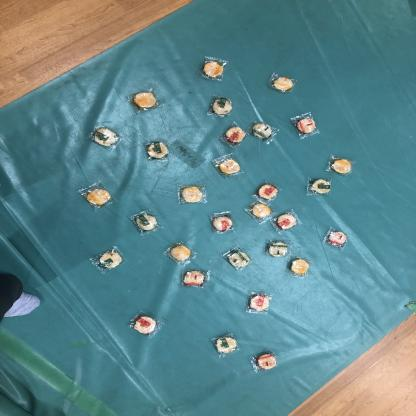green_setoshio: (89, 244, 129, 275), (88, 124, 125, 151), (126, 209, 164, 235), (221, 246, 256, 272), (211, 331, 242, 358), (249, 121, 283, 145), (304, 177, 338, 200), (206, 95, 237, 120), (142, 140, 170, 164), (264, 238, 293, 260)
red_setoshio: (124, 310, 166, 340), (290, 112, 322, 140), (249, 178, 282, 204), (246, 291, 277, 316), (178, 270, 216, 289), (252, 350, 282, 374), (323, 227, 351, 252), (274, 209, 303, 232), (209, 212, 236, 236), (220, 124, 249, 146)
yellow_setoshio: (76, 181, 114, 212), (195, 57, 231, 83), (213, 154, 247, 179), (164, 240, 198, 265), (129, 89, 163, 112), (324, 154, 358, 176), (176, 184, 209, 206), (267, 73, 300, 94), (244, 202, 275, 221), (288, 258, 314, 280)
